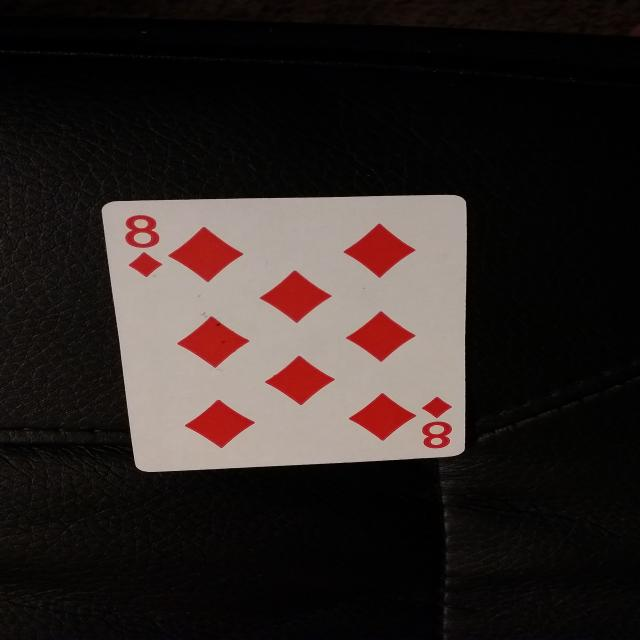8d: (114, 208, 182, 288), (400, 391, 466, 456)
